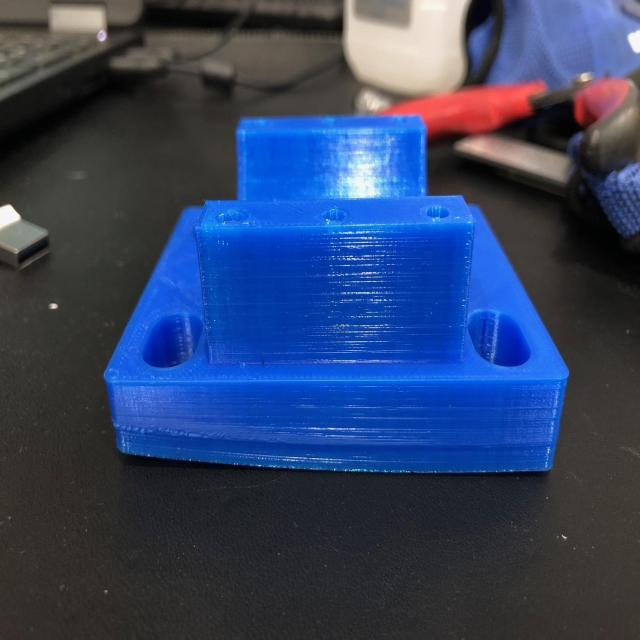cracks: (110, 407, 415, 479)
